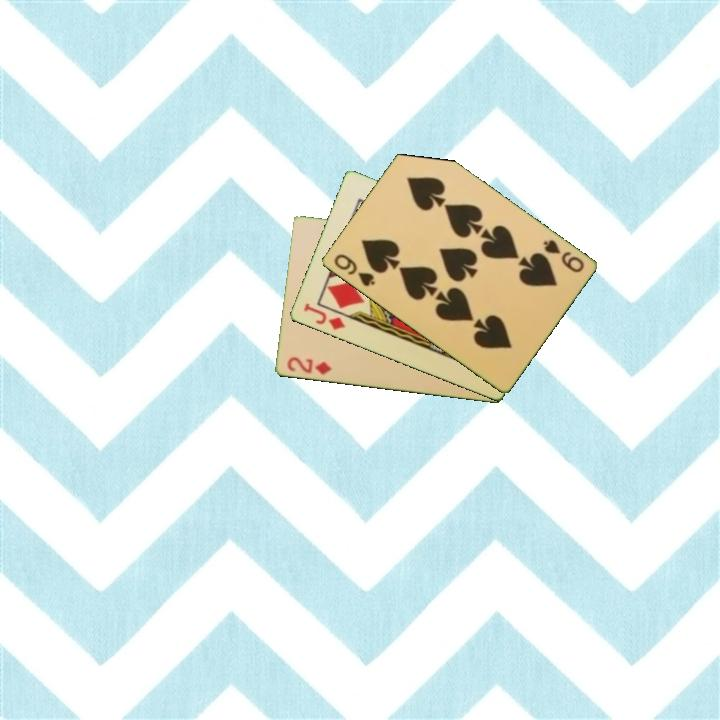2d: (283, 353, 334, 378)
9s: (330, 250, 378, 290), (539, 236, 587, 276)
Jd: (300, 300, 347, 333)
